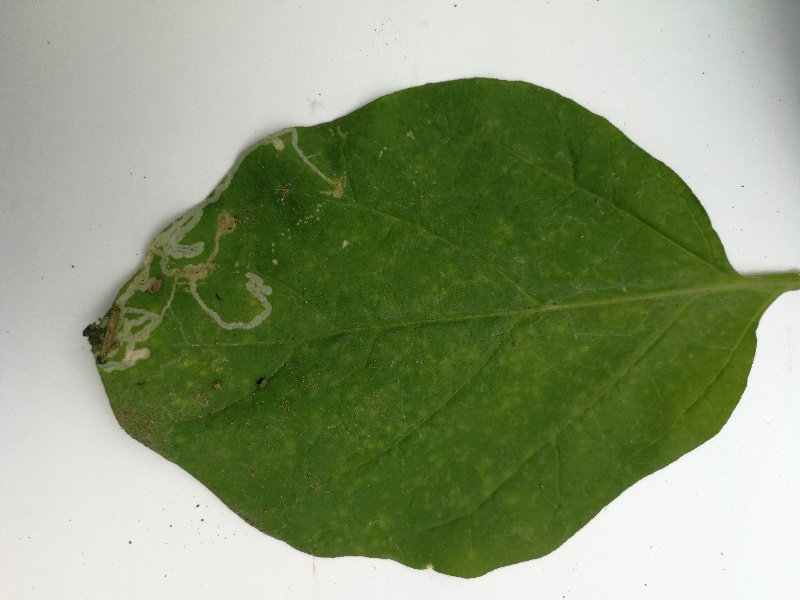leafminer: (89, 117, 353, 377)
